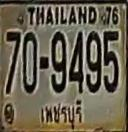0: (23, 31, 38, 94)
4: (69, 31, 83, 93)
5: (103, 30, 120, 93)
7: (5, 30, 21, 94)
9: (85, 30, 102, 93), (51, 31, 67, 92)
PBI: (37, 97, 86, 130)
